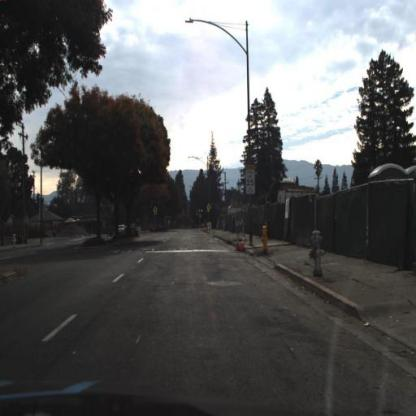car: (116, 222, 127, 233)
